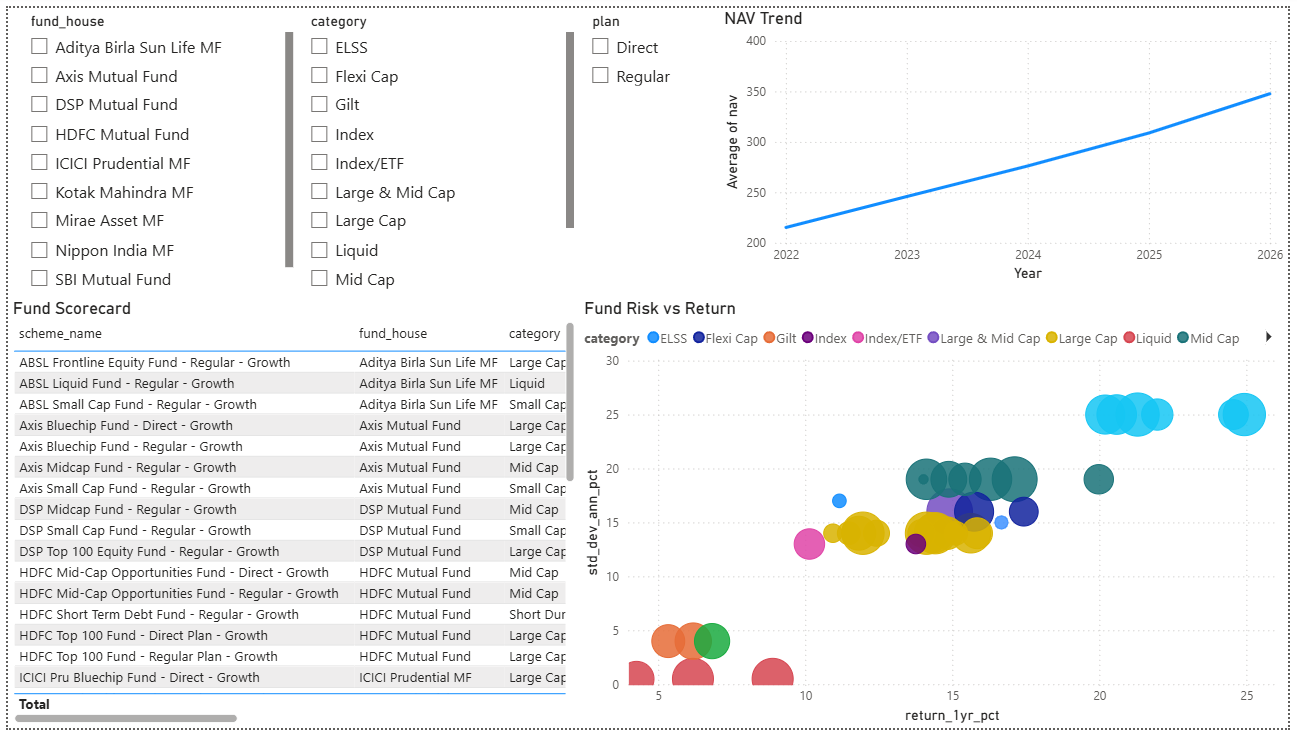

This screenshot's page, from the dashboard's own definition file:
{"tool":"powerbi","page":{"name":"Fund Performance","canvas":[1280,720],"ordinal":1},"visuals":[{"type":"slicer","fields":{"Values":["07_scheme_performance_cleaned.fund_house"]},"box":[10,0,280,290],"z":0},{"type":"slicer","fields":{"Values":["07_scheme_performance_cleaned.category"]},"box":[290,0,281.2,290],"z":1000},{"type":"slicer","fields":{"Values":["07_scheme_performance_cleaned.plan"]},"box":[570.8,0,280.6,279.2],"z":2000},{"type":"tableEx","title":"Fund Scorecard","fields":{"Values":["07_scheme_performance_cleaned.scheme_name","07_scheme_performance_cleaned.fund_house","07_scheme_performance_cleaned.category","07_scheme_performance_cleaned.plan","Sum(07_scheme_performance_cleaned.return_1yr_pct)","Sum(07_scheme_performance_cleaned.std_dev_ann_pct)","Sum(07_scheme_performance_cleaned.sharpe_ratio)","Sum(07_scheme_performance_cleaned.expense_ratio_pct)","Sum(07_scheme_performance_cleaned.aum_crore)"]},"box":[0,290,571.2,430],"z":3000},{"type":"lineChart","title":"NAV Trend","fields":{"Category":["02_nav_history_cleaned.date.Variation.Date Hierarchy.Year","02_nav_history_cleaned.date.Variation.Date Hierarchy.Quarter","02_nav_history_cleaned.date.Variation.Date Hierarchy.Month","02_nav_history_cleaned.date.Variation.Date Hierarchy.Day"],"Y":["Avg(02_nav_history_cleaned.nav)"]},"box":[711.2,0,568.8,278.8],"z":4000},{"type":"scatterChart","title":"Fund Risk vs Return","fields":{"X":["07_scheme_performance_cleaned.return_1yr_pct"],"Y":["07_scheme_performance_cleaned.std_dev_ann_pct"],"Series":["07_scheme_performance_cleaned.category"],"Size":["Max(07_scheme_performance_cleaned.aum_crore)"]},"box":[571.2,290,708.8,430],"z":5000}]}

Visuals, with their boxes in screenshot pixels (x1, y1, x2, y2), scaled from the page's 1280x720 canvas onto the 1297x737 screenshot:
slicer - 07_scheme_performance_cleaned.fund_house: left=10, top=0, right=294, bottom=297
slicer - 07_scheme_performance_cleaned.category: left=294, top=0, right=579, bottom=297
slicer - 07_scheme_performance_cleaned.plan: left=578, top=0, right=863, bottom=286
"Fund Scorecard" tableEx: left=0, top=297, right=579, bottom=736
"NAV Trend" lineChart: left=721, top=0, right=1296, bottom=285
"Fund Risk vs Return" scatterChart: left=579, top=297, right=1296, bottom=736
